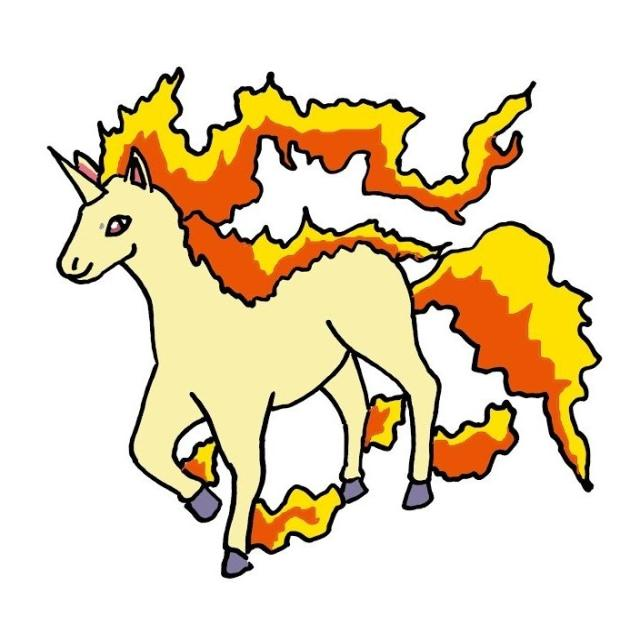Rapidash: (66, 64, 448, 550)
